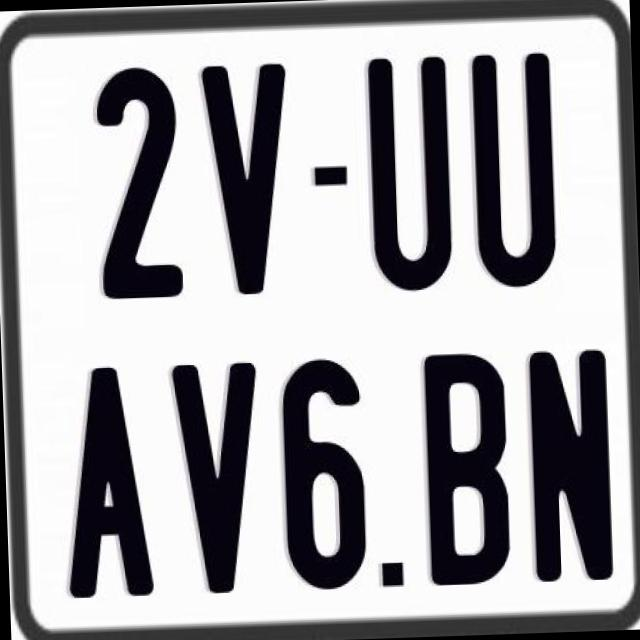2: (92, 65, 182, 302)
6: (276, 357, 371, 592)
A: (60, 366, 158, 598)
B: (423, 352, 519, 595)
N: (526, 346, 620, 586)
U: (471, 52, 556, 296), (367, 55, 452, 296)
V: (200, 62, 292, 304), (167, 363, 261, 599)
